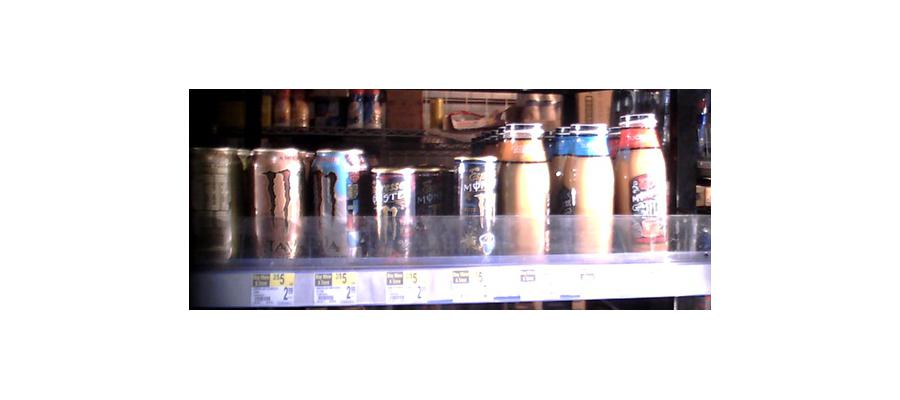bottle: (553, 101, 618, 256), (244, 144, 306, 268), (496, 114, 549, 259), (616, 103, 666, 255), (309, 143, 365, 262), (195, 142, 240, 261), (454, 150, 496, 260), (371, 168, 415, 262)
